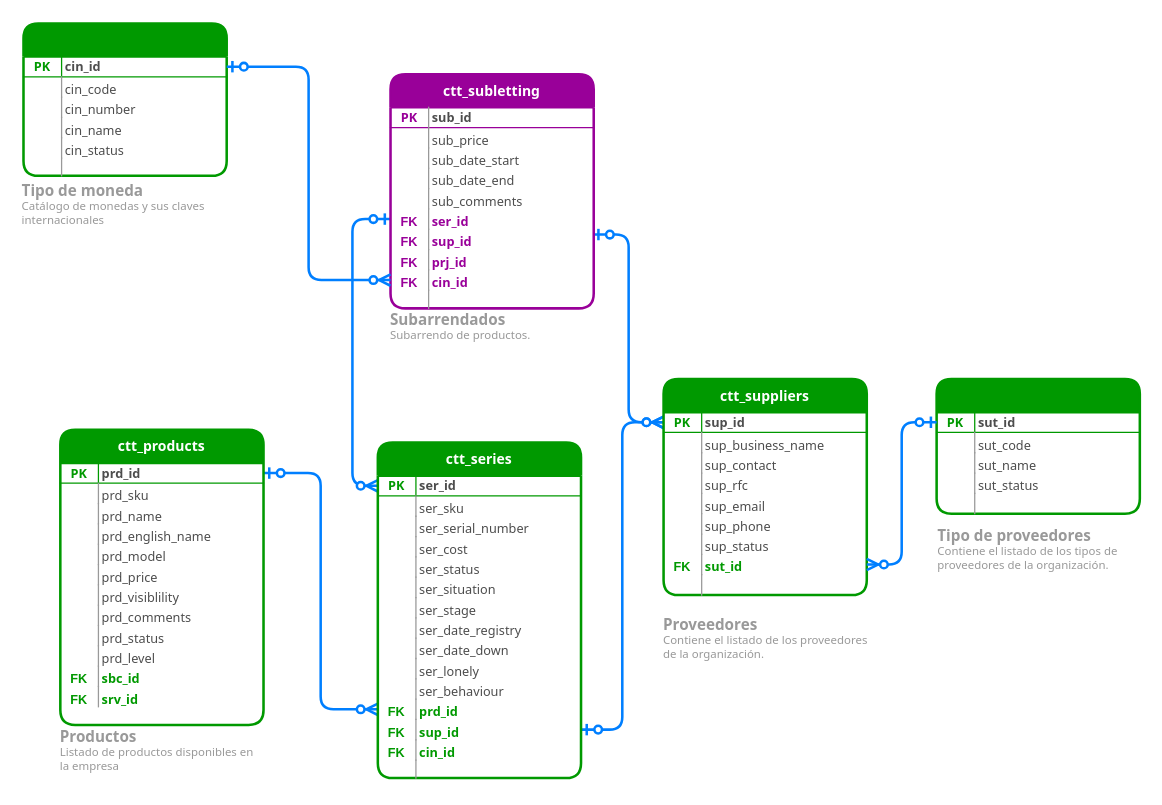
Image size: 1162x805. Some labels were removed from this diagram. Each missing label, with the box of its shape:
ctt_coins: (22, 22, 227, 176)
ctt_suppliers_type: (935, 377, 1140, 514)
